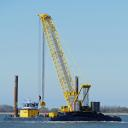tugboat: (3, 100, 124, 125)
